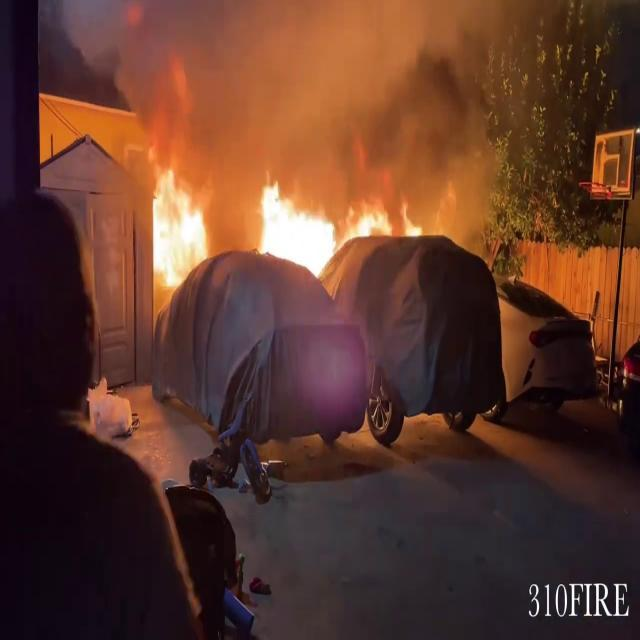Fire: (251, 174, 363, 288), (144, 162, 212, 296), (349, 170, 464, 234)
Smoke: (88, 1, 542, 174)
